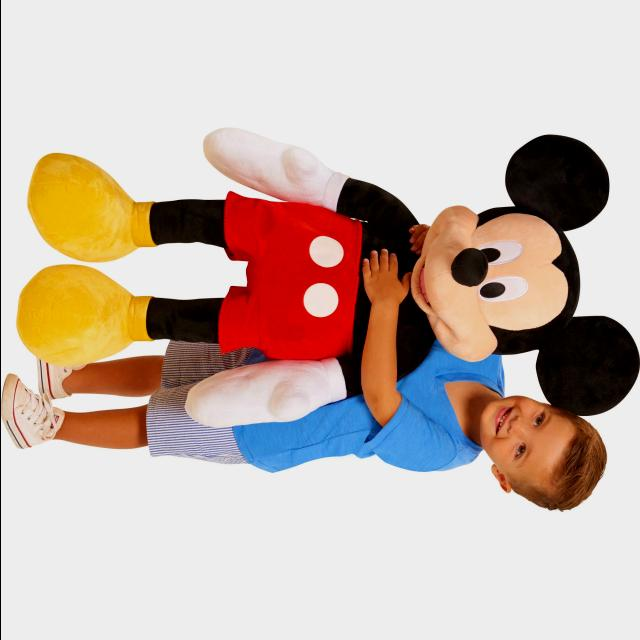mickey: (17, 129, 638, 426)
